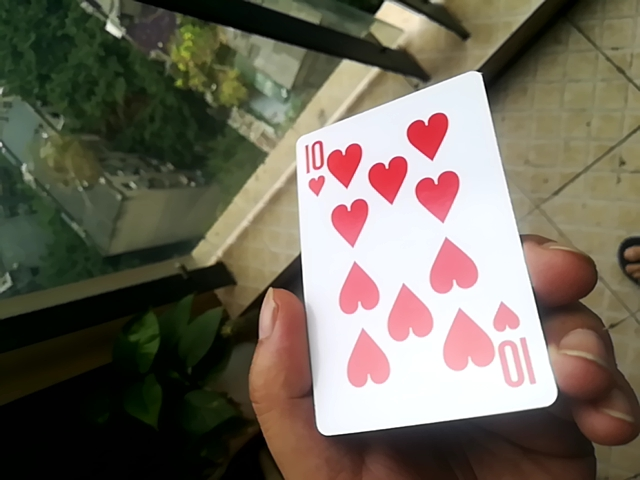hx 10: (292, 76, 546, 436)
